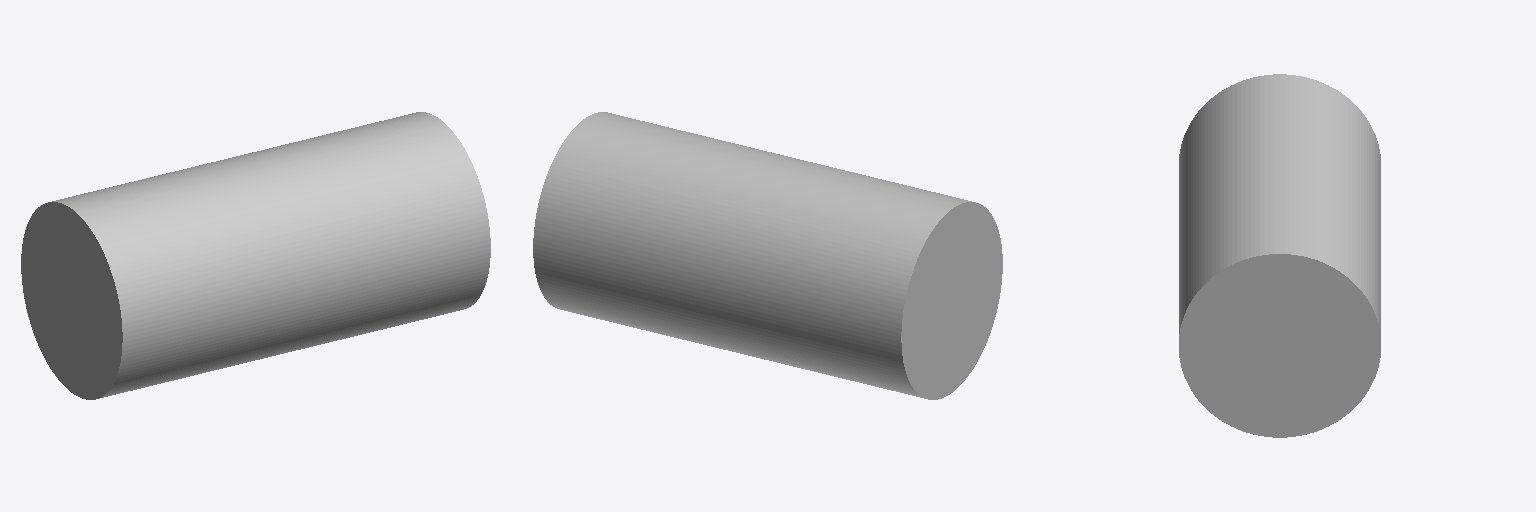
The model's file is nominal.obj.
The picture shows the model from 3 angles: view 1: azimuth 30°, elevation 25°; view 2: azimuth 150°, elevation 25°; view 3: azimuth 270°, elevation 25°; orthographic projection.
Parts seen in each view (by area): view 1: Cylinder; view 2: Cylinder; view 3: Cylinder.
Boxes of the visible parts, <box> form: Cylinder: <box>21,112,490,399</box>; Cylinder: <box>533,112,1002,399</box>; Cylinder: <box>1179,74,1380,437</box>.
Size of the model in its own units: 4.17 by 1.99 by 1.99.